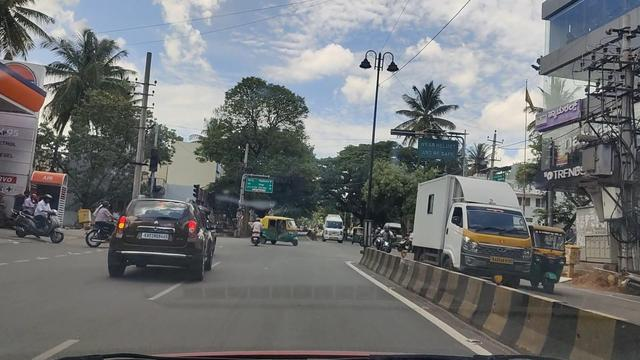LMV: (112, 195, 220, 286)
